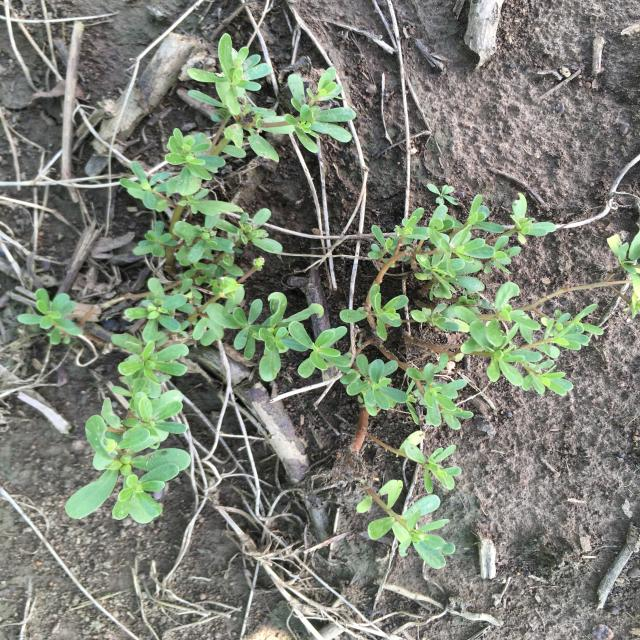Purslane: (18, 32, 357, 524), (340, 182, 640, 568)
